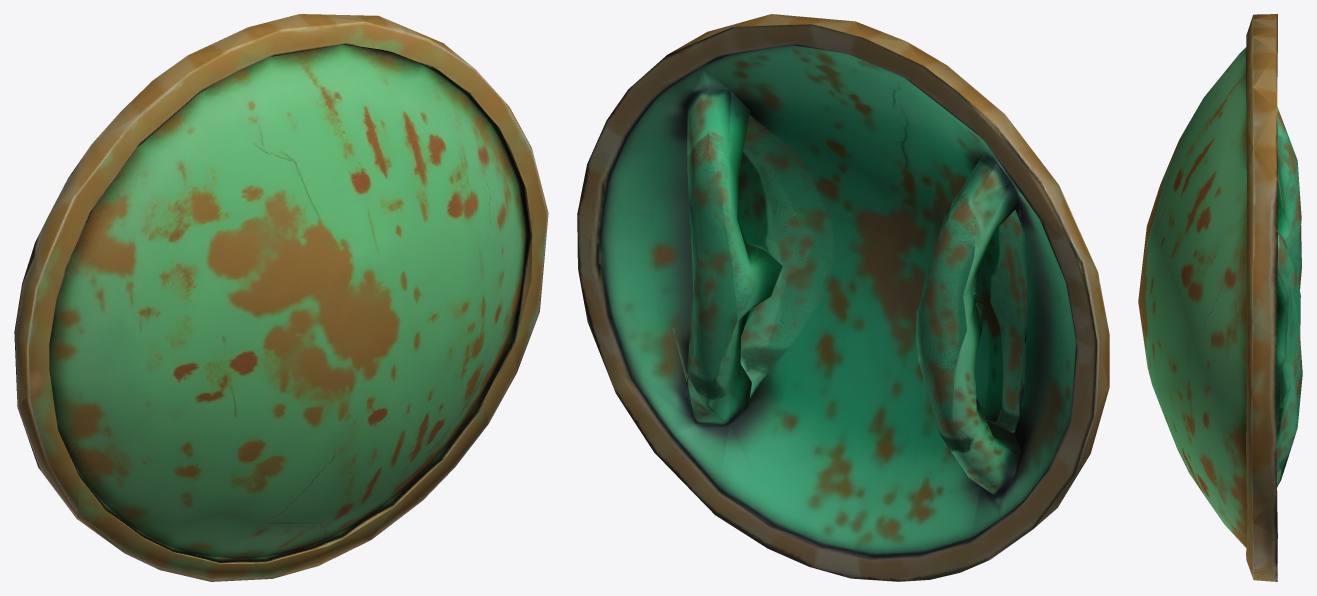
The model's file is wpn_shield1.glb.
3 views of the same model, side by side, from view 1: azimuth 30°, elevation 25°; view 2: azimuth 150°, elevation 25°; view 3: azimuth 270°, elevation 25° (orthographic). The views are drawn at different scales.
Bounding box in the file's own units: 1.91 × 1.91 × 0.5526.
Materials: 1 (1 with a texture image).
